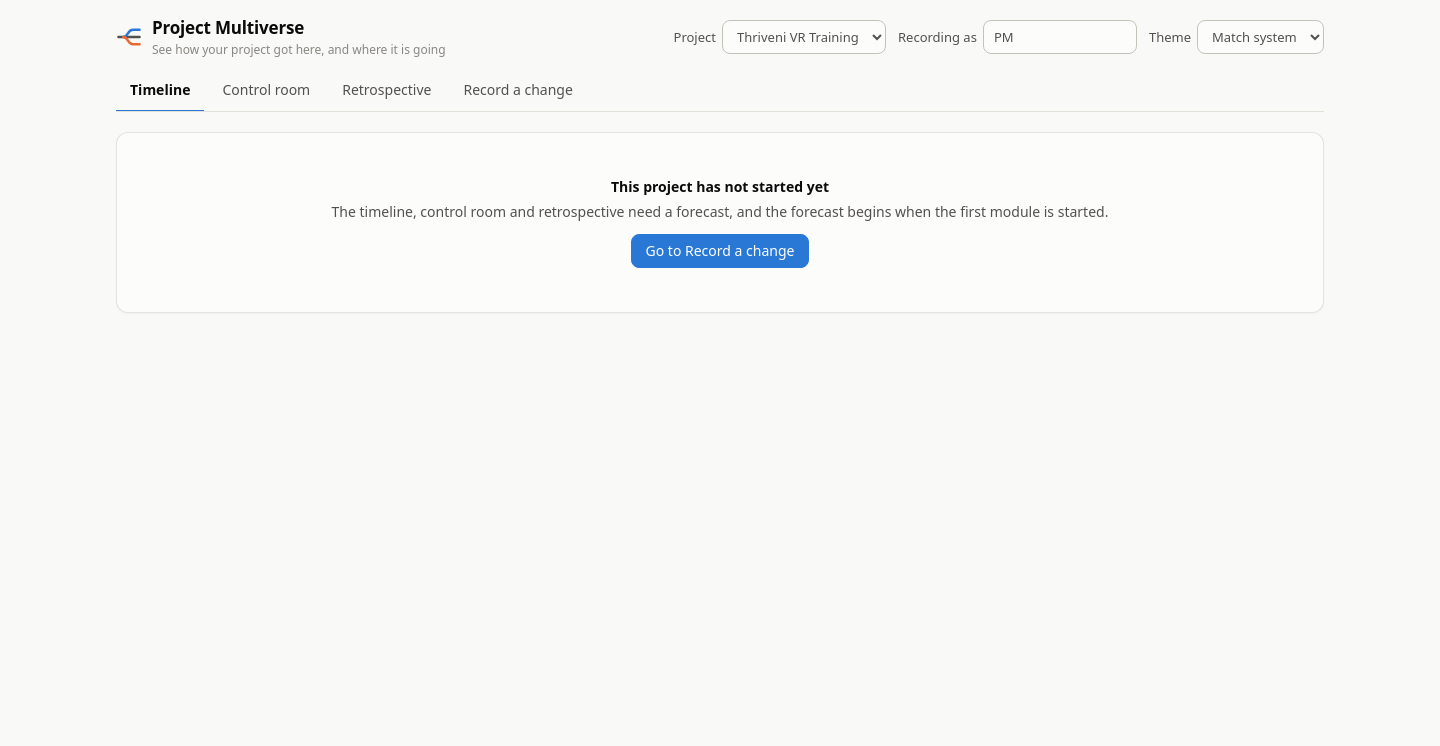
Test: a project that has not started › sends you to start a module, and starts the project when you do
Expected: the text "This project has not started yet" is shown, left=611, top=177, right=829, bottom=196
Click the button "Go to Record a change": (720, 251) left=630, top=234, right=809, bottom=268
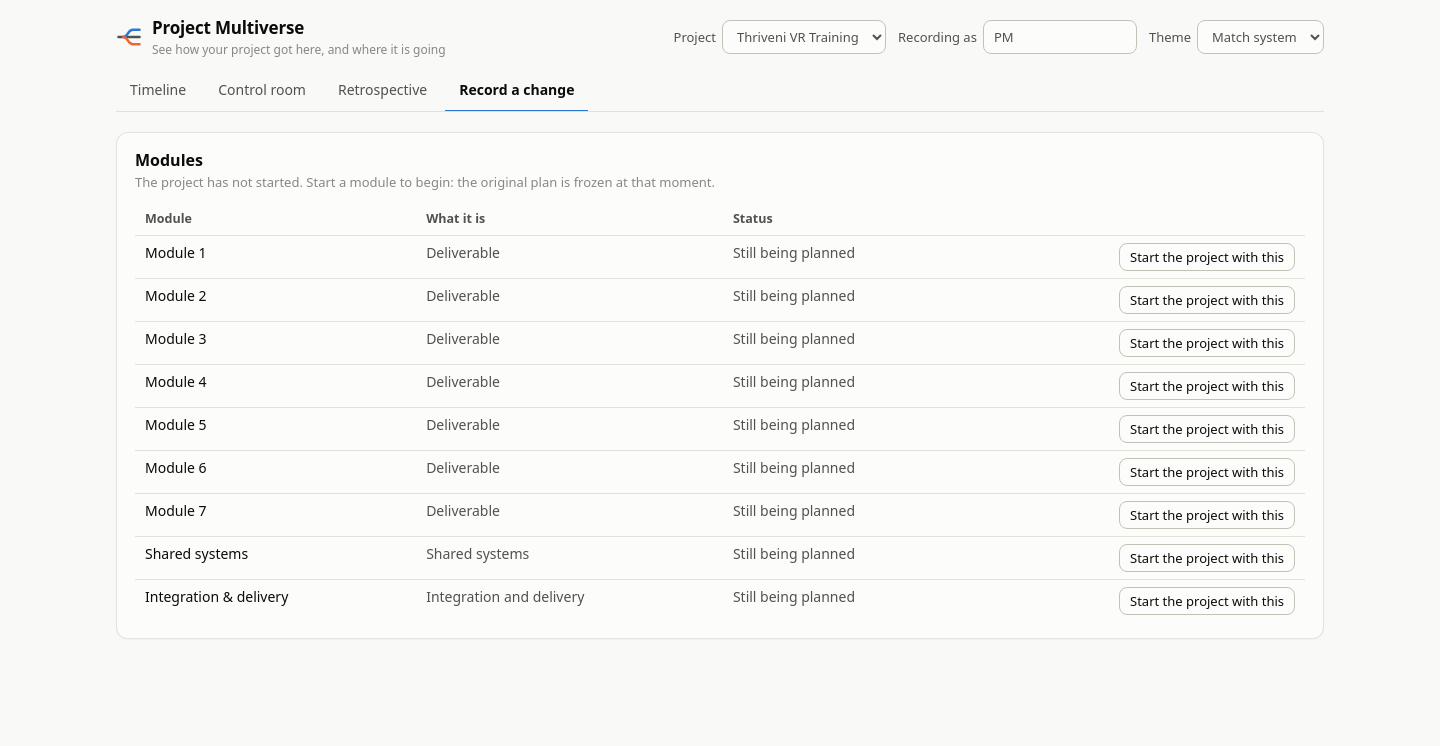
Expected: the text "What happened?" is not shown
Now the text "The project has not started" is shown, box left=135, top=172, right=715, bottom=190
Click the button with aria-label "Start Module 1": (1207, 258) left=1119, top=244, right=1295, bottom=272
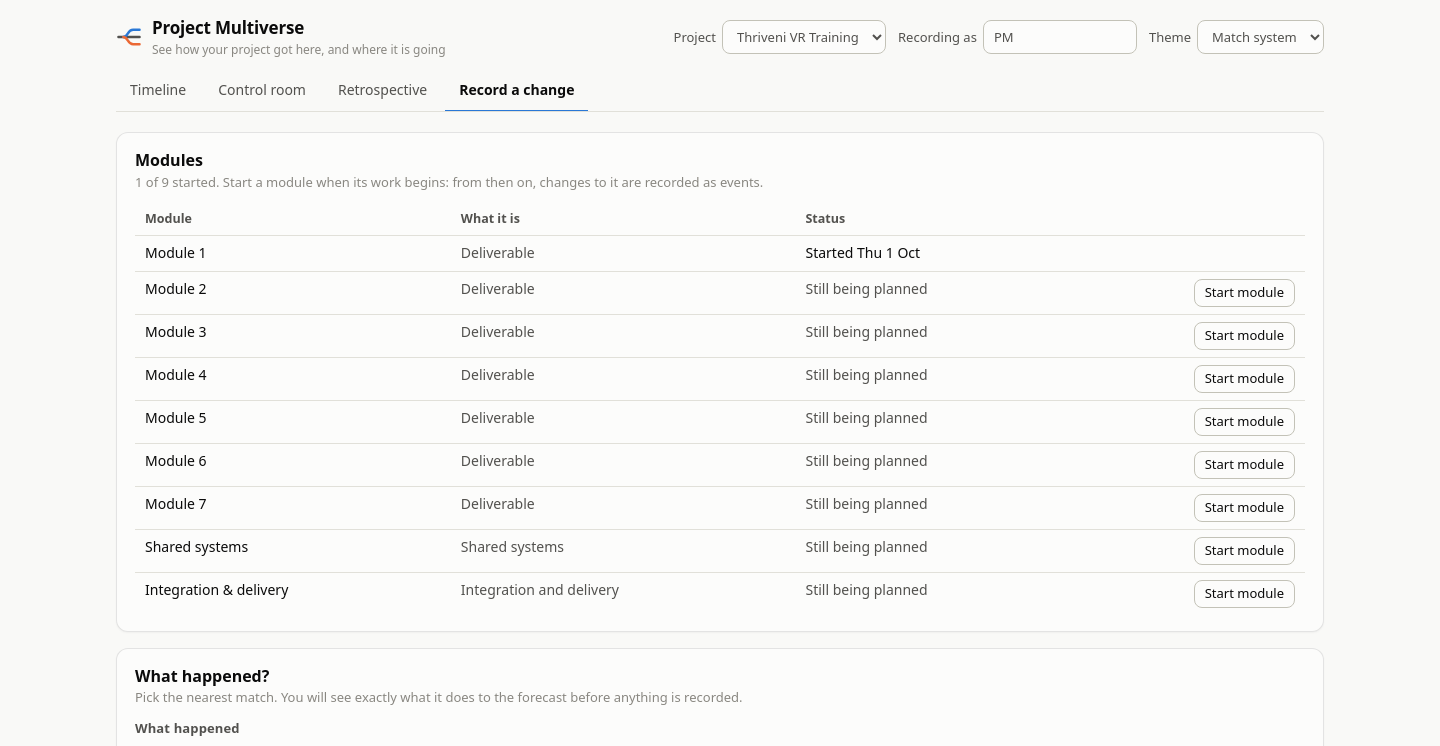
Now the heading "What happened?" is shown, box left=135, top=665, right=269, bottom=687
Now the text "1 of 9 started" is shown, box left=135, top=172, right=763, bottom=190
